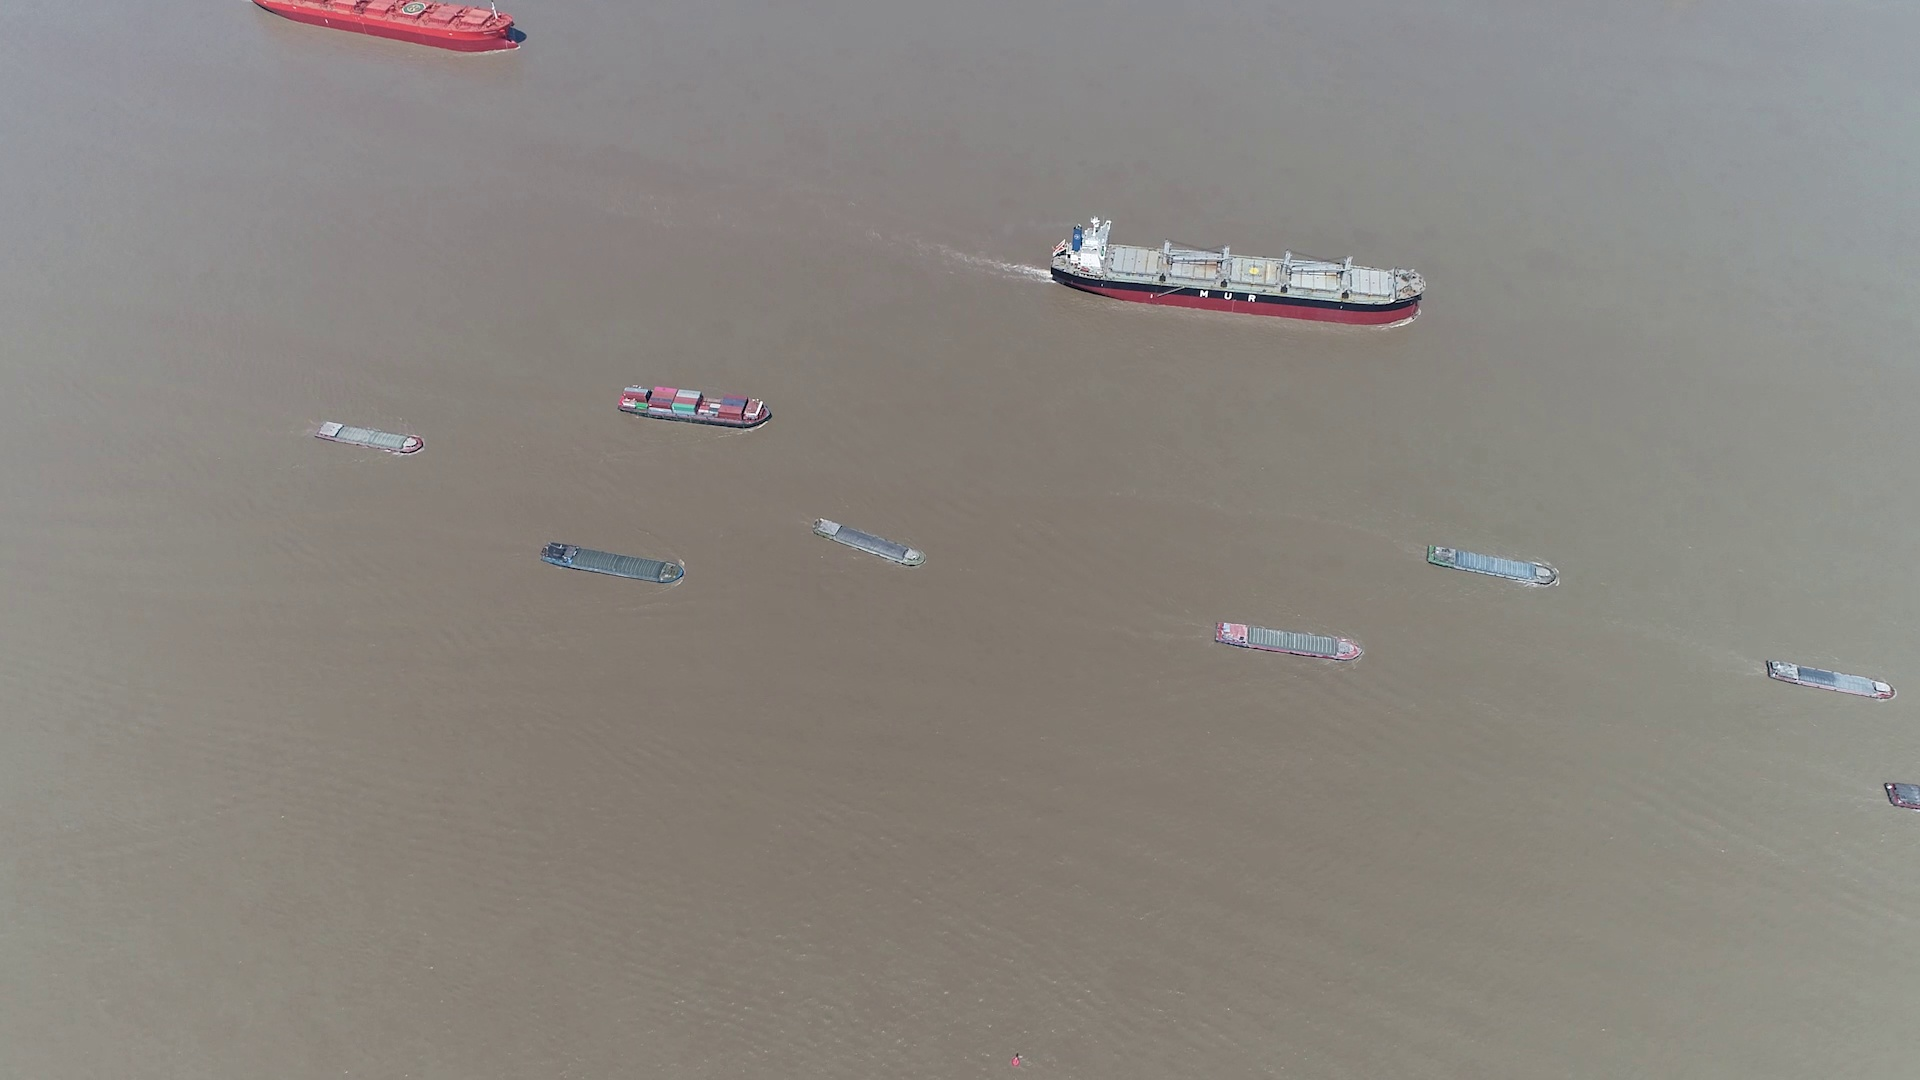ship: (1051, 222, 1425, 323), (252, 0, 525, 54), (618, 386, 774, 431), (538, 541, 688, 585), (1217, 620, 1362, 662), (1429, 543, 1561, 587), (1764, 659, 1898, 702), (814, 522, 923, 568), (313, 419, 422, 454), (1886, 781, 1920, 814)
